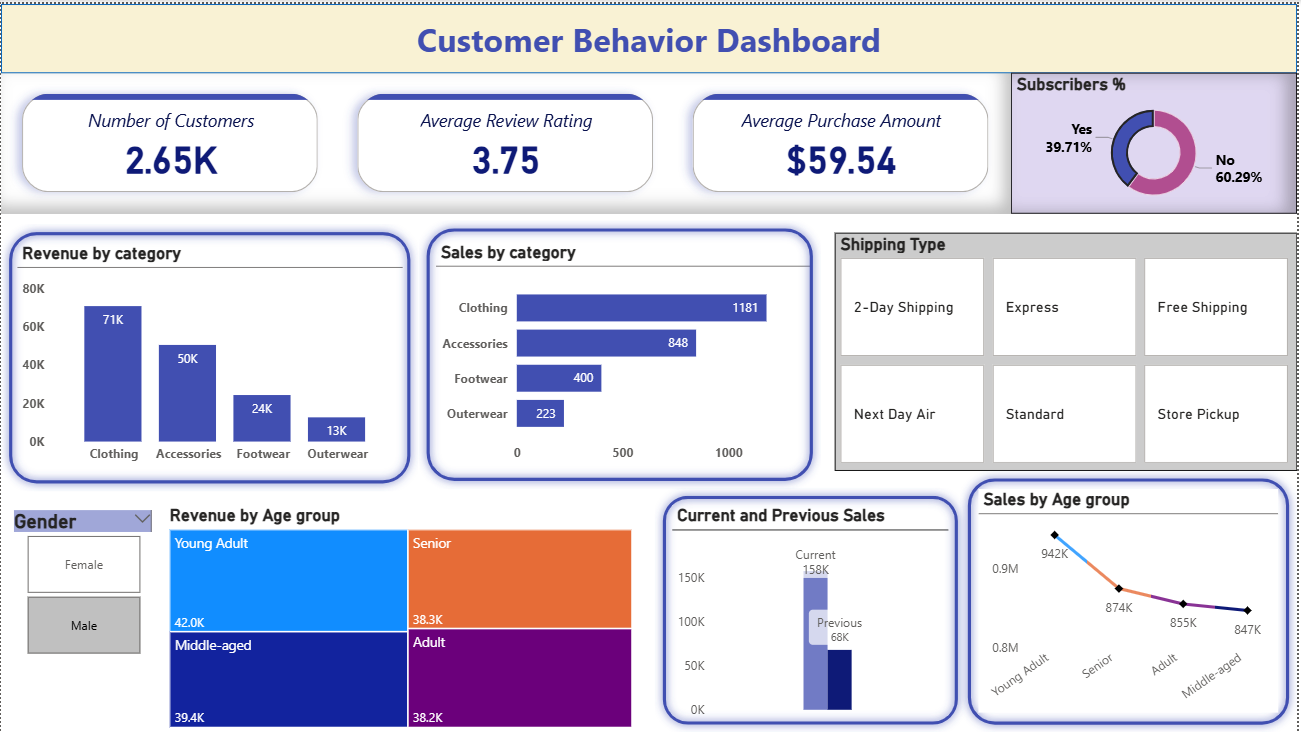

What the dashboard file says about the page in this screenshot:
{"tool":"powerbi","page":{"name":"Page 1","canvas":[1280,720],"ordinal":0},"visuals":[{"type":"cardVisual","fields":{"Data":["public customer.Number of Customers","public customer.Average Review Rating","public customer.Average Purchase Amount"]},"box":[0,68.4,997.7,139.3],"z":0},{"type":"shape","box":[0,0,1280,68.4],"z":1000},{"type":"donutChart","title":"Subscribers  %","fields":{"Category":["public customer.subscription_status"],"Y":["public customer.Number of Customers"]},"box":[997.5,67.9,282.7,139.5],"z":2000},{"type":"clusteredColumnChart","title":"Revenue by category","fields":{"Y":["Sum(public customer.purchase_amount)"],"Category":["public customer.category"]},"box":[16.2,236.4,380.7,225.2],"z":3000},{"type":"clusteredBarChart","title":"Sales by category","fields":{"Category":["public customer.category"],"Y":["public customer.Number of Customers"]},"box":[429.6,234.6,370.4,225.9],"z":4000},{"type":"shape","box":[0,217.3,412.3,264.2],"z":5000},{"type":"shape","box":[412.3,213.6,397.5,265.4],"z":6000},{"type":"slicer","fields":{"Values":["public customer.gender"]},"box":[0,495.1,161.7,153],"z":7000},{"type":"advancedSlicerVisual","title":"Shipping Type","fields":{"Values":["public customer.shipping_type"]},"box":[823.5,226.4,456.5,235.1],"z":8000},{"type":"treemap","title":"Revenue by Age group","fields":{"Values":["Sum(public customer.purchase_amount)"],"Group":["public customer.age_group"]},"box":[161.7,495.1,466.7,224.7],"z":9000},{"type":"lineClusteredColumnComboChart","title":"Current and Previous Sales","fields":{"Y":["Sum(public customer.purchase_amount)","Sum(public customer.previous_purchases)"]},"box":[663,495.1,272.8,214.8],"z":10000},{"type":"shape","box":[645.7,477.8,307.4,242],"z":11000},{"type":"shape","box":[946.9,460.5,333.3,259.3],"z":12000},{"type":"lineChart","title":"Sales by Age group","fields":{"Category":["public customer.age_group"],"Y":["Sum(public customer.customer_id)"]},"box":[965.4,479,296.3,221],"z":13000}]}

Visuals, with their boxes in screenshot pixels (x1, y1, x2, y2), scaled from the page's 1280x720 canvas onto the 1301x732 screenshot:
cardVisual - public customer.Number of Customers x public customer.Average Review Rating: (0, 70, 1014, 211)
shape: (0, 0, 1300, 70)
"Subscribers  %" donutChart: (1014, 69, 1300, 211)
"Revenue by category" clusteredColumnChart: (16, 240, 403, 469)
"Sales by category" clusteredBarChart: (437, 239, 813, 468)
shape: (0, 221, 419, 490)
shape: (419, 217, 823, 487)
slicer - public customer.gender: (0, 503, 164, 659)
"Shipping Type" advancedSlicerVisual: (837, 230, 1300, 469)
"Revenue by Age group" treemap: (164, 503, 639, 731)
"Current and Previous Sales" lineClusteredColumnComboChart: (674, 503, 951, 722)
shape: (656, 486, 969, 731)
shape: (962, 468, 1300, 731)
"Sales by Age group" lineChart: (981, 487, 1282, 712)
